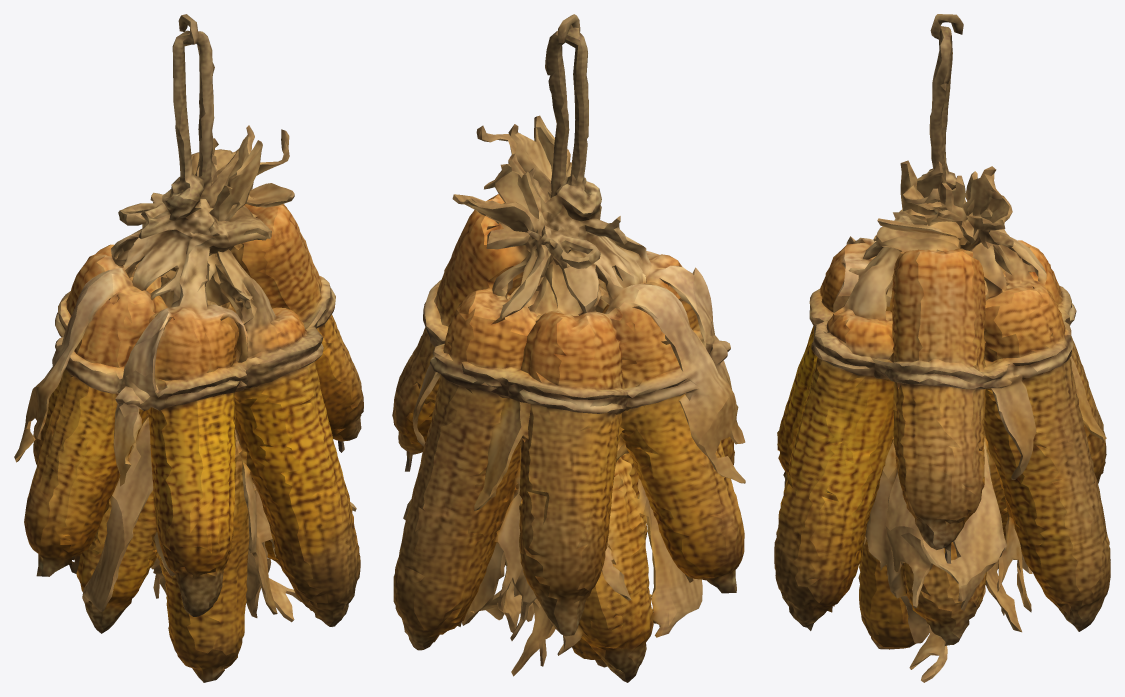
The model's file is corn_hang.glb.
3 views of the same model, side by side, from view 1: azimuth 30°, elevation 25°; view 2: azimuth 150°, elevation 25°; view 3: azimuth 270°, elevation 25° (orthographic). The views are drawn at different scales.
Visible parts, largest first — view 1: world; view 2: world; view 3: world.
Part boxes in pixels (box(x1,y1,x2,y2)): world: box(14, 14, 363, 682); world: box(392, 14, 745, 682); world: box(774, 14, 1110, 682).
Size of the model in its own units: 0.2499 by 0.45 by 0.2154.
1 material, 1 textured.
